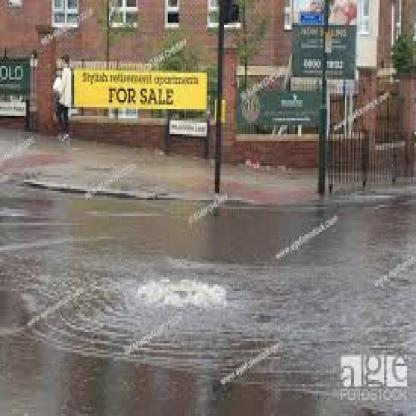drainage overflow-repair-: (101, 243, 251, 371)
